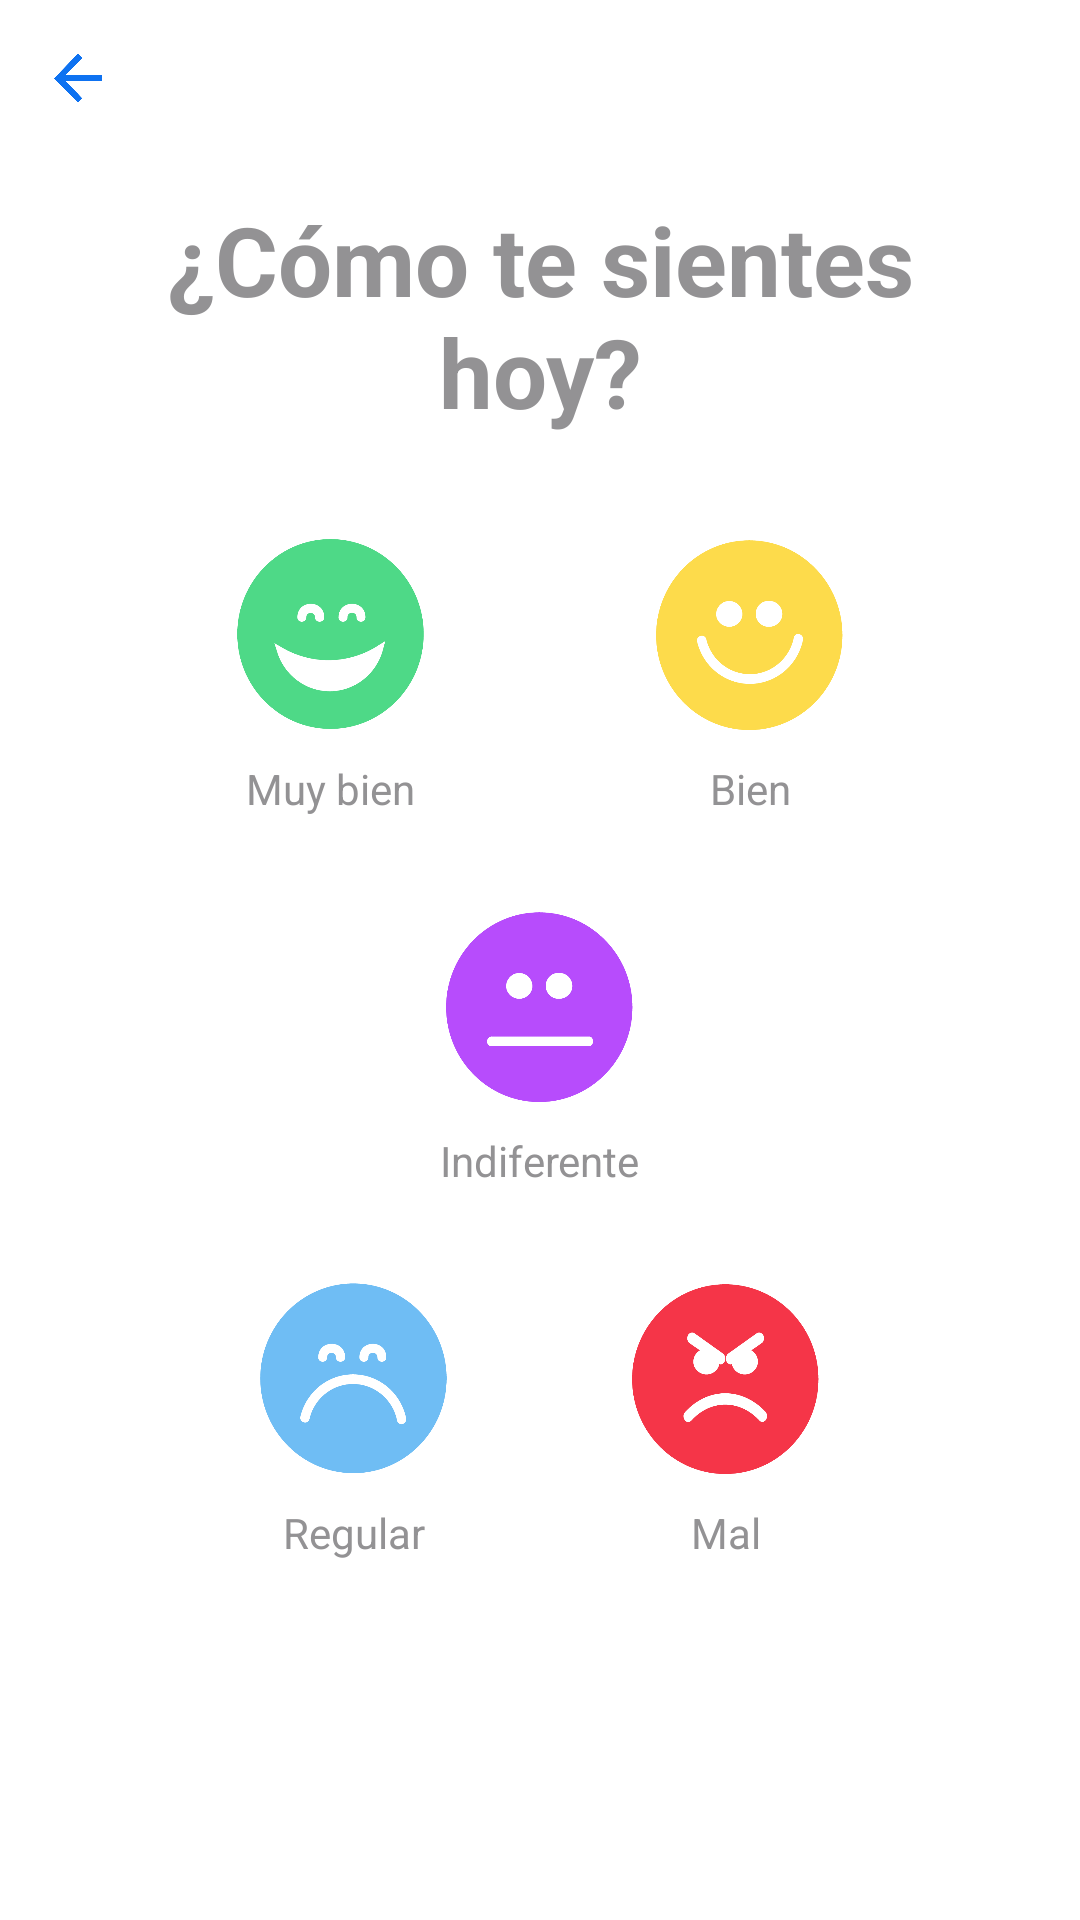

Icon click points for this 1080 x 1920 phone screenshot, format [x,y]:
left arrow: [78,78]
mood angry: [725,1379]
mood sad: [353,1378]
